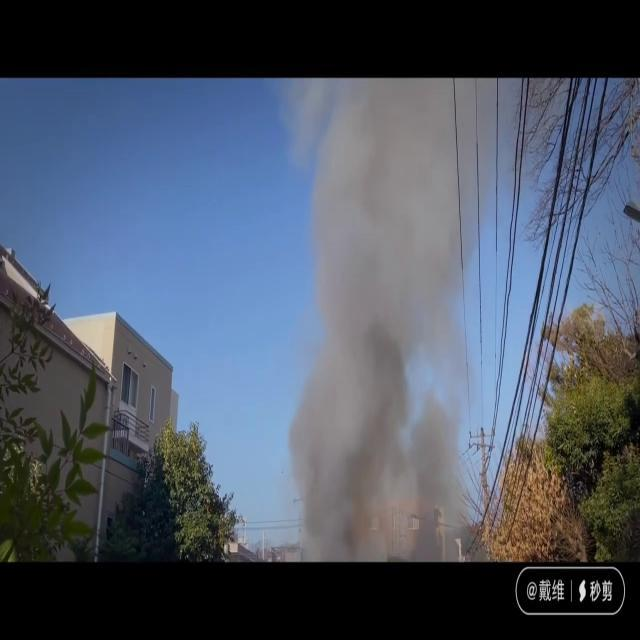Smoke: (276, 80, 488, 561)
